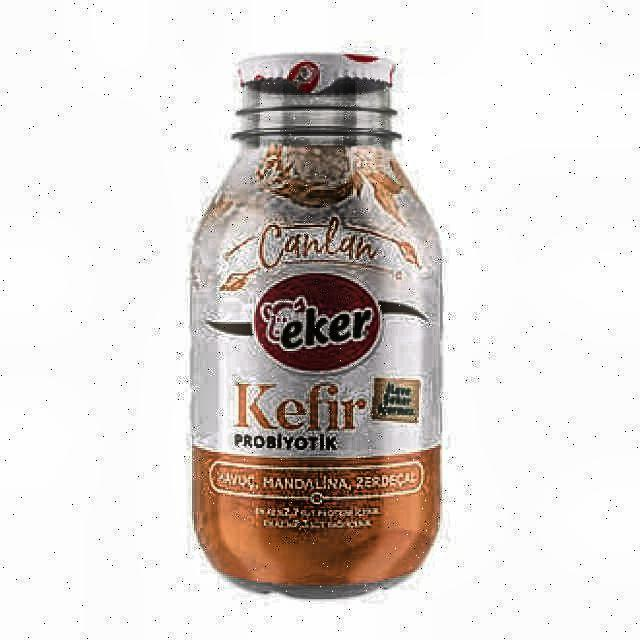plastic: (190, 53, 444, 602)
